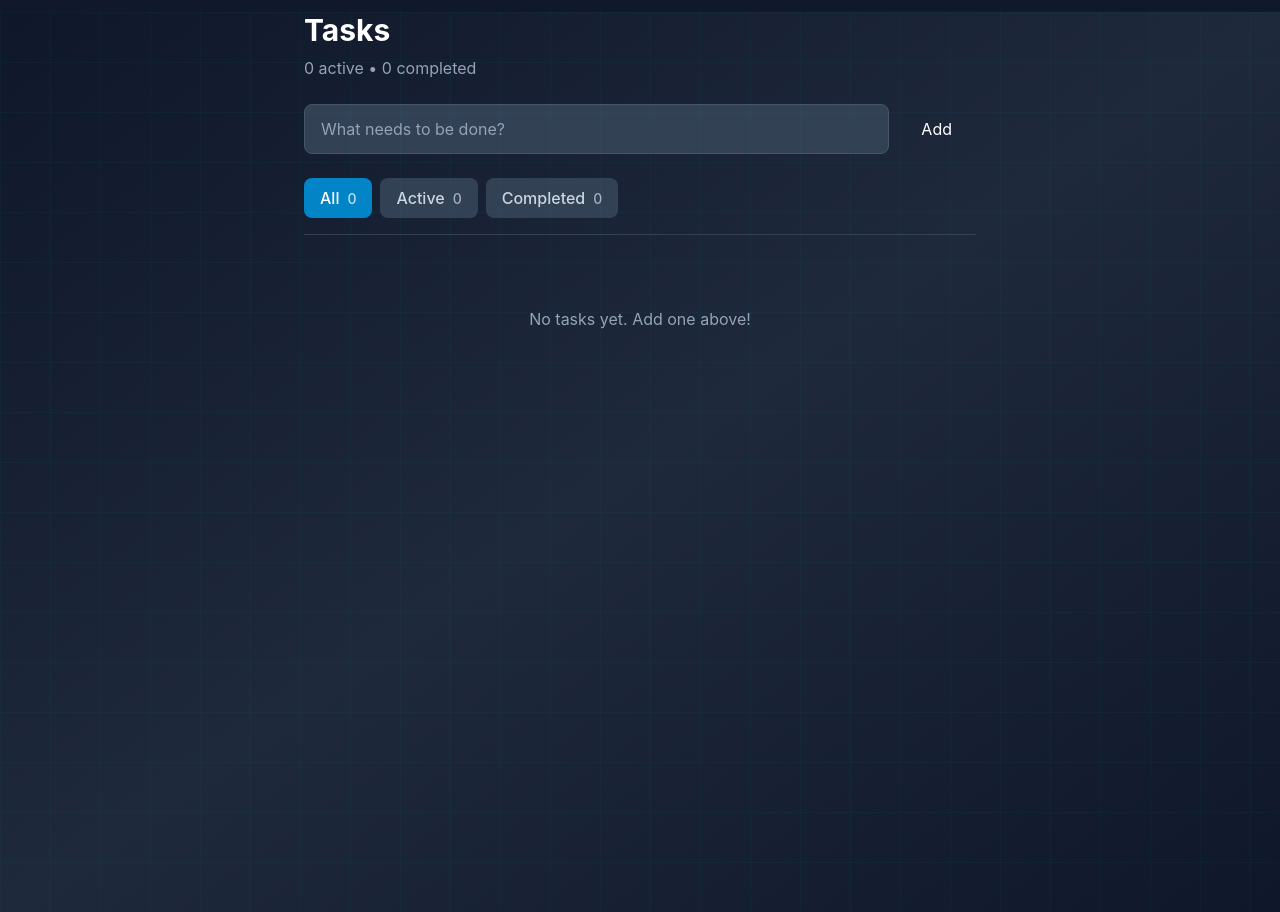
Test: TodoList › adds a new todo
Type "Test task" into the field with placeholder "What needs to be done?". click: x=597, y=129
box: [304, 104, 889, 154]
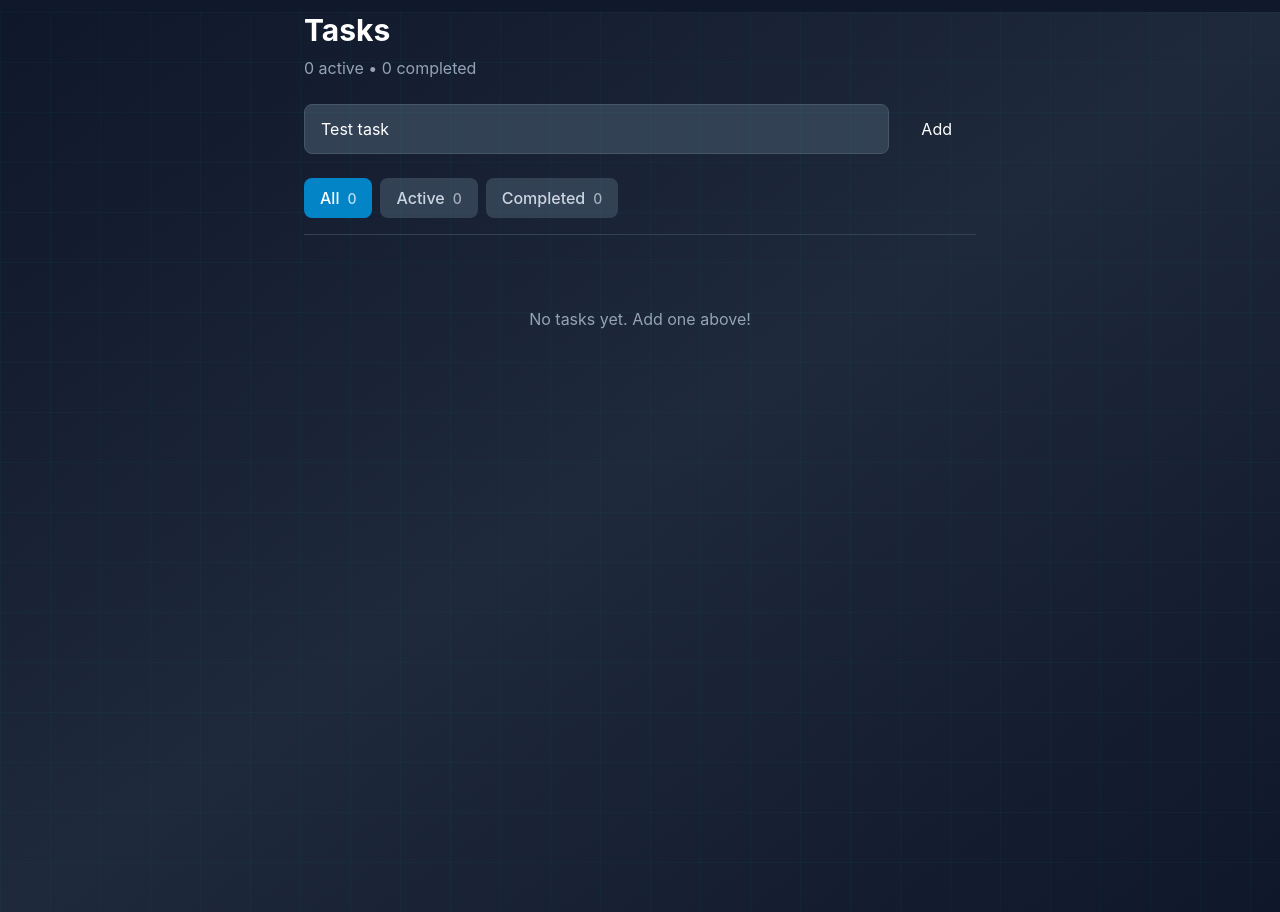
Click the button "Add". click: x=937, y=129
box: [897, 104, 976, 154]
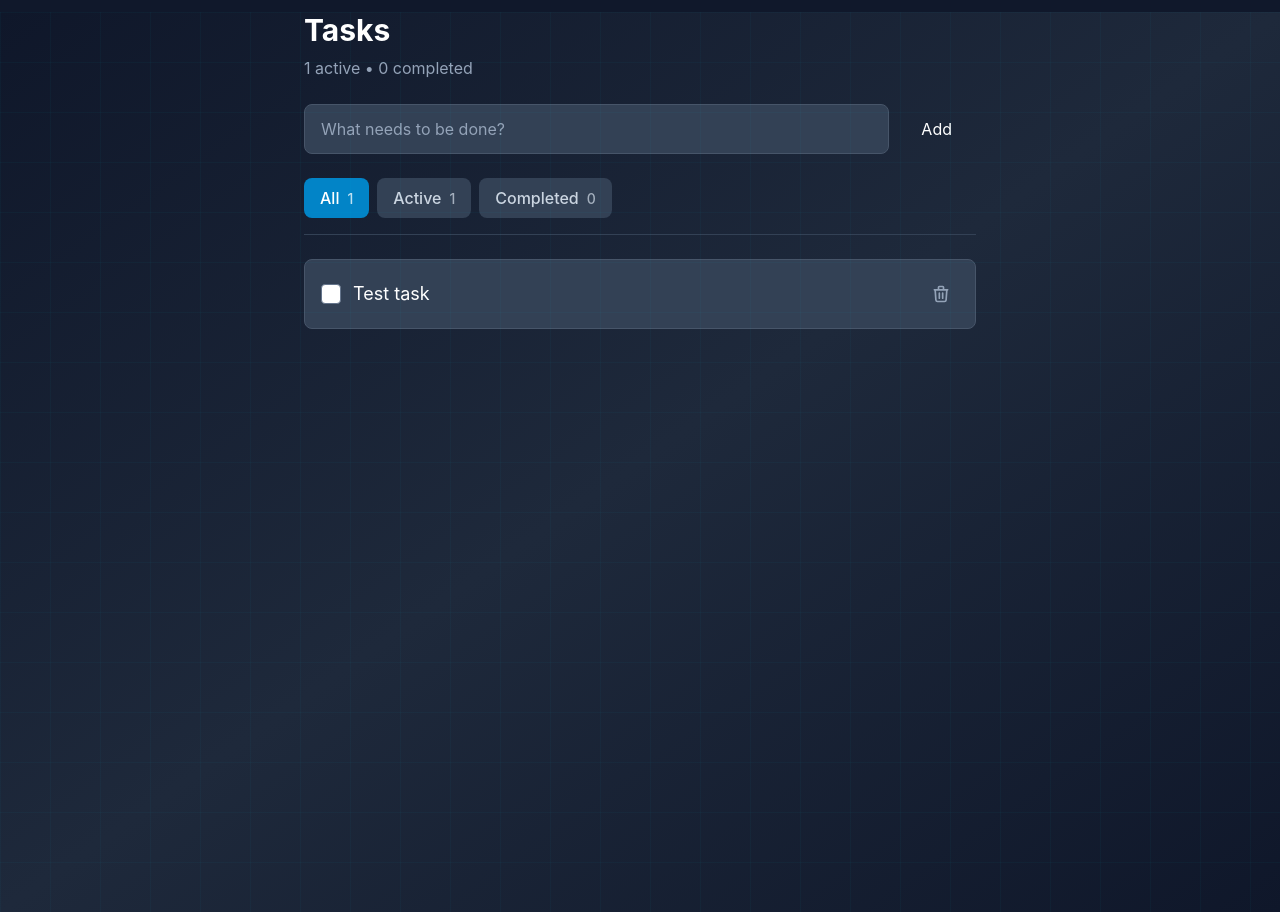
Now the text "Test task" is shown, box [353, 283, 430, 304]
